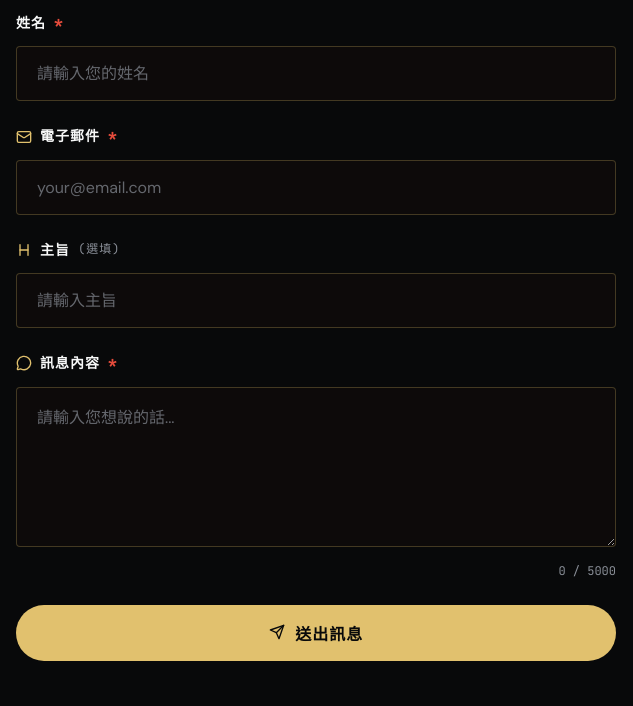
Test: ContactForm › 表單驗證 › 訊息太短應該顯示錯誤
Type "測試者" into the field with id "name" at point(316, 74), box left=16, top=46, right=616, bottom=101
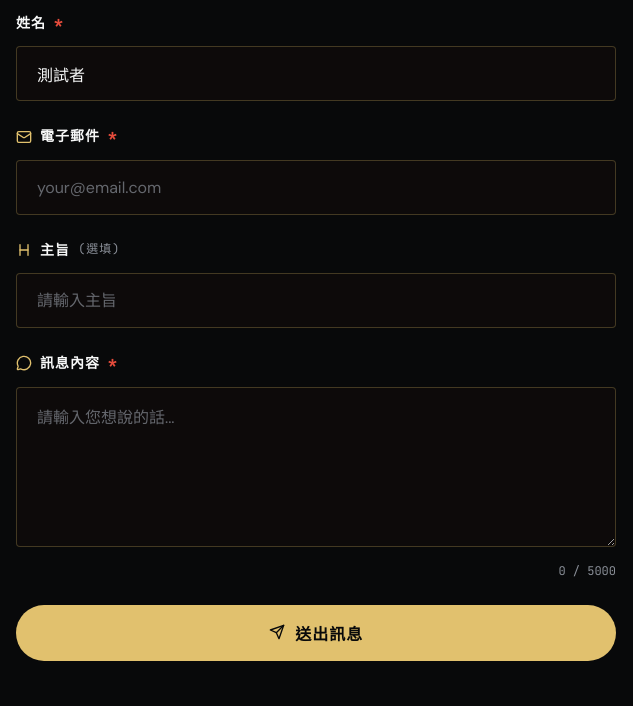
Type "test@example.com" into the field with id "email" at point(316, 187), box left=16, top=160, right=616, bottom=215
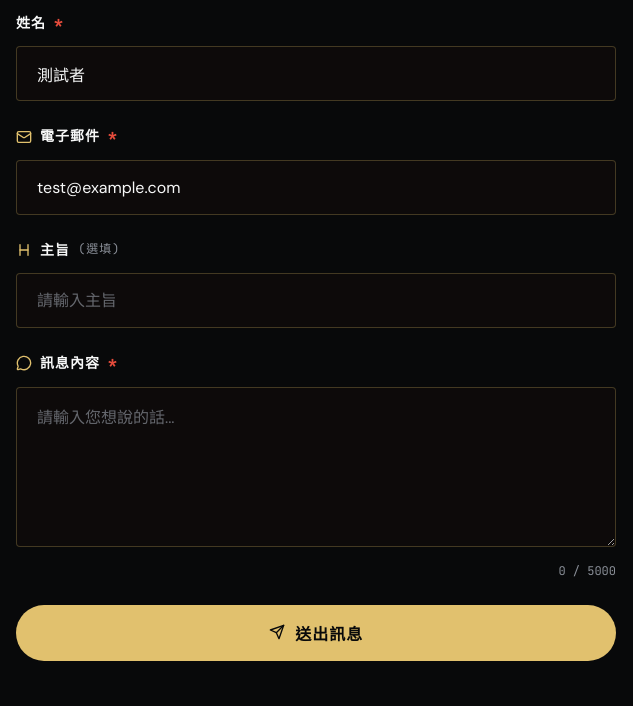
Type "太短" into the text box with id "message" at point(316, 467), box left=16, top=387, right=616, bottom=547
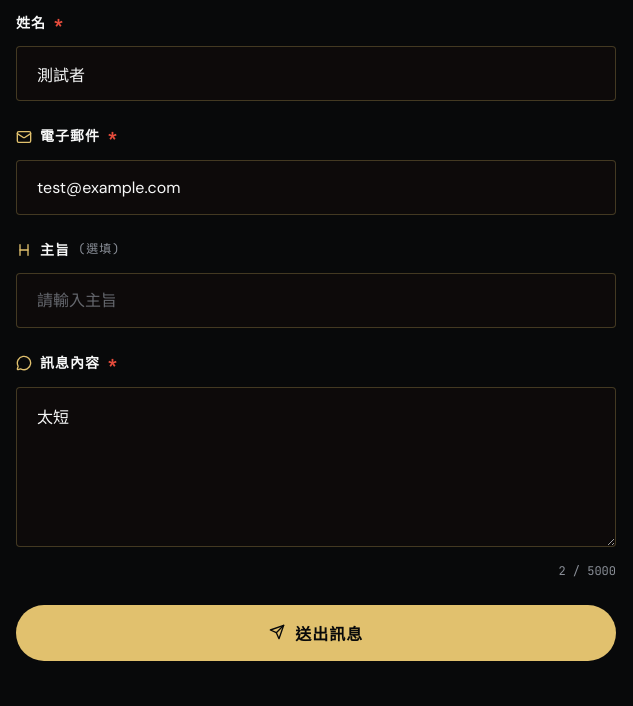
Submit the form
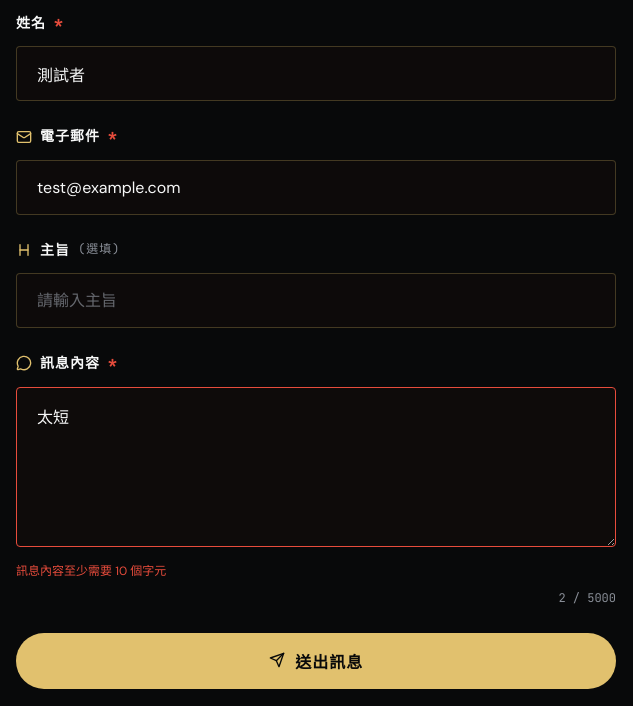
Expected: the form shows "訊息內容至少需要 10 個字元", left=16, top=563, right=166, bottom=579
